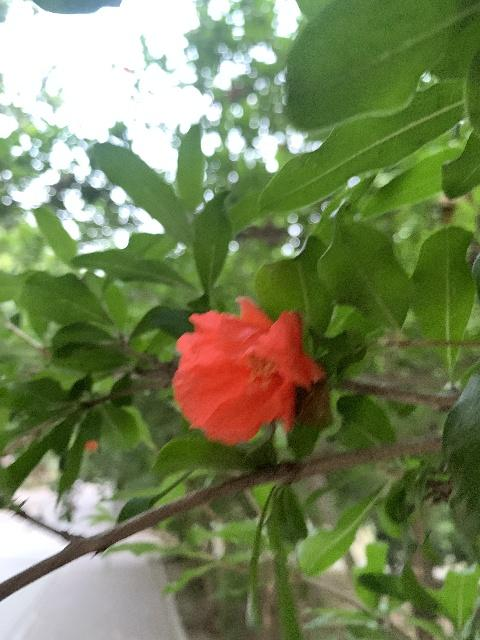flower: (171, 296, 325, 446)
